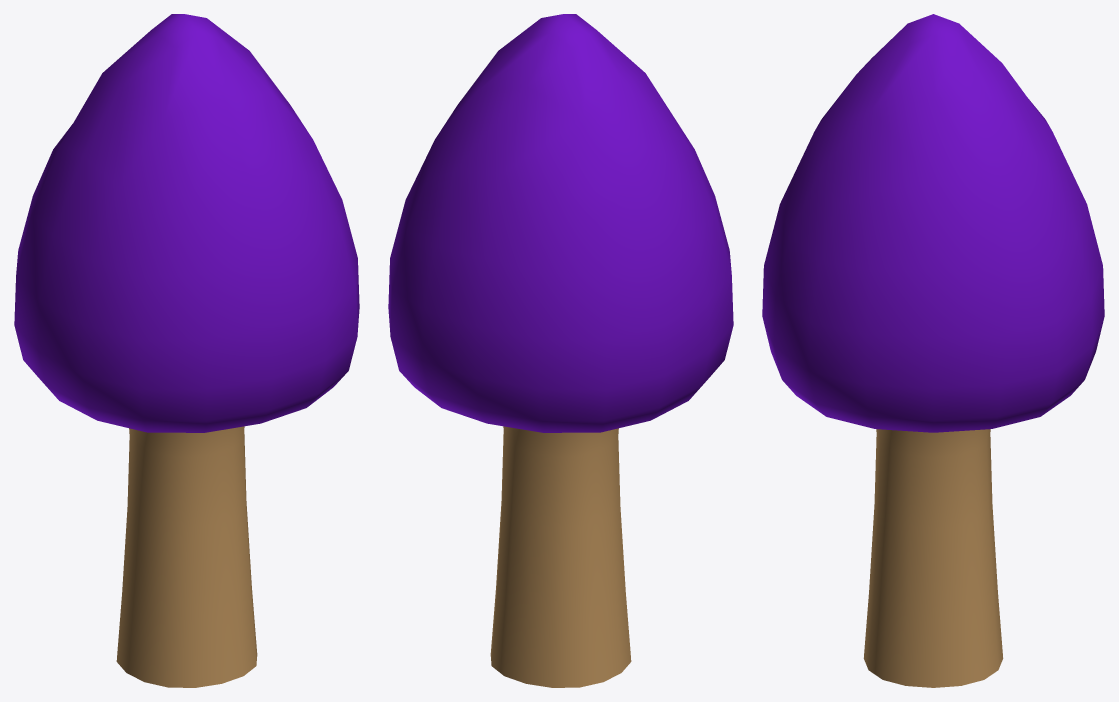
Rendered from prop44.fbx.
3 renders of one model, left to right at view 1: azimuth 30°, elevation 25°; view 2: azimuth 150°, elevation 25°; view 3: azimuth 270°, elevation 25°, orthographic.
Visible parts, largest first — view 1: Cube.026; view 2: Cube.026; view 3: Cube.026.
Part boxes in pixels (x1,y1,x2,y2): Cube.026: [14, 14, 359, 687]; Cube.026: [388, 14, 733, 687]; Cube.026: [762, 14, 1104, 687].
Bounding box in the file's own units: 0.3492 × 0.3492 × 0.7239.
